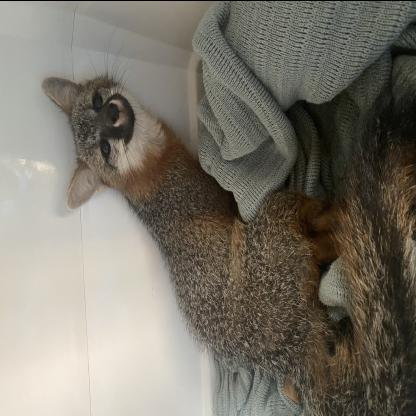zorro: (35, 64, 415, 415)
